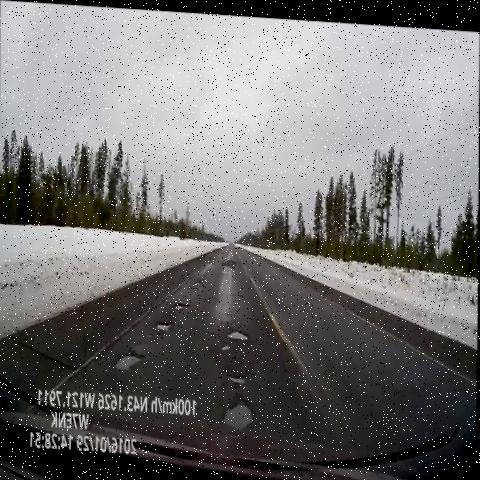pothole: (216, 379, 262, 446), (107, 345, 154, 380), (215, 318, 255, 357), (149, 310, 181, 344), (164, 292, 196, 320), (224, 365, 255, 390), (220, 250, 242, 274), (190, 268, 206, 292)
